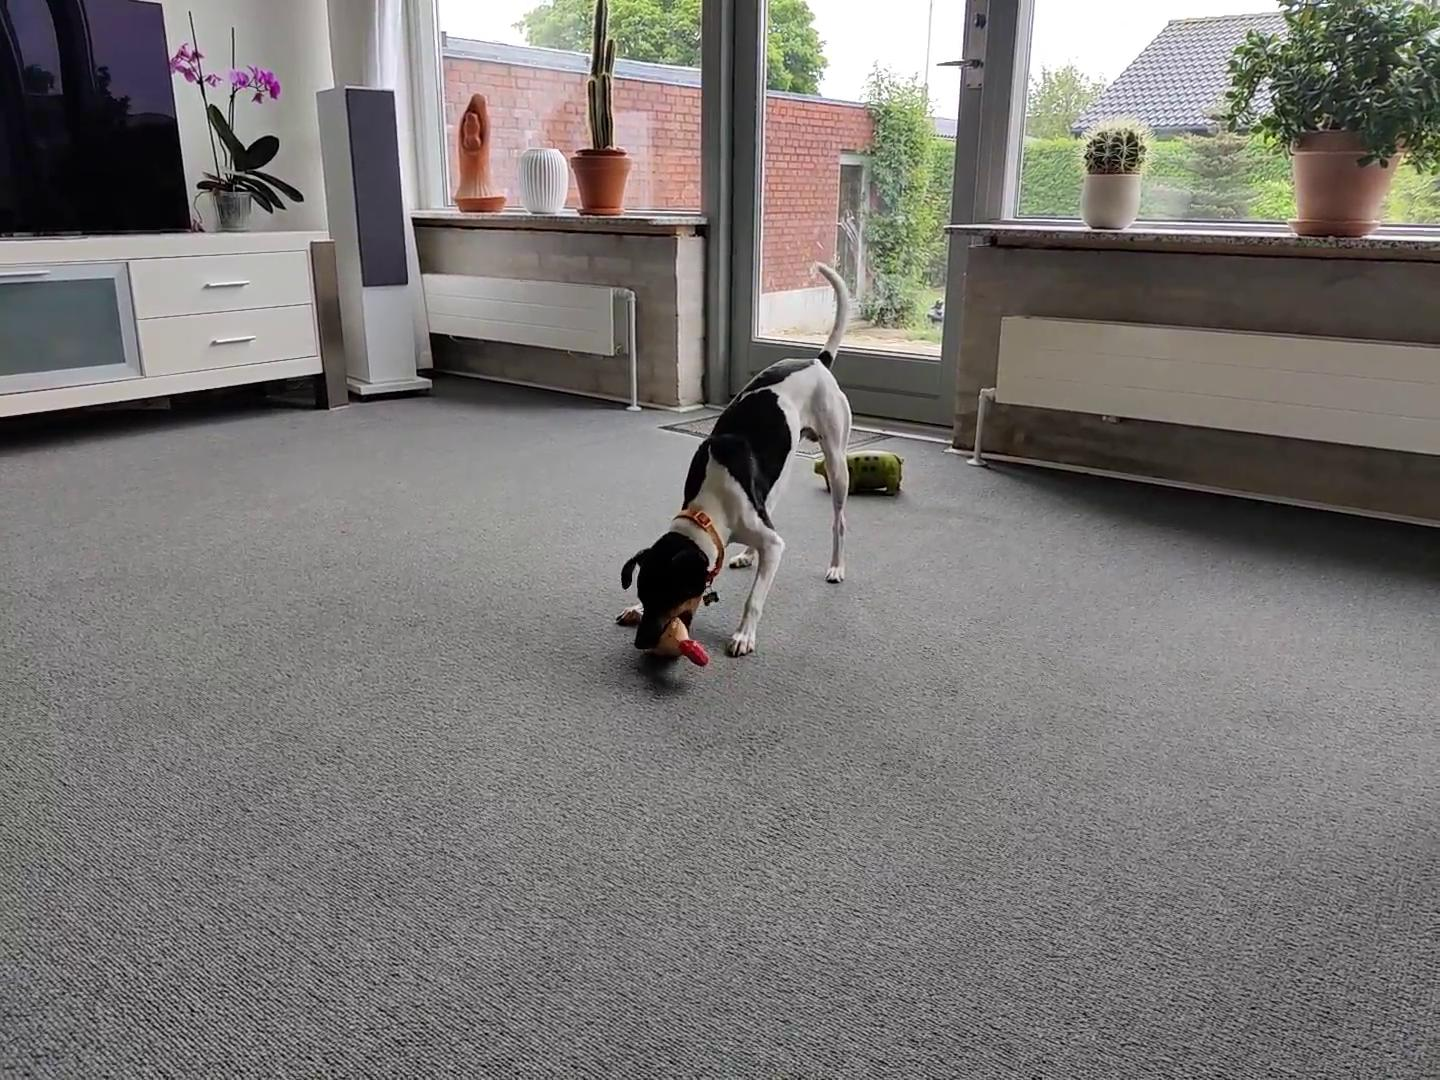Dog: (607, 258, 855, 660)
